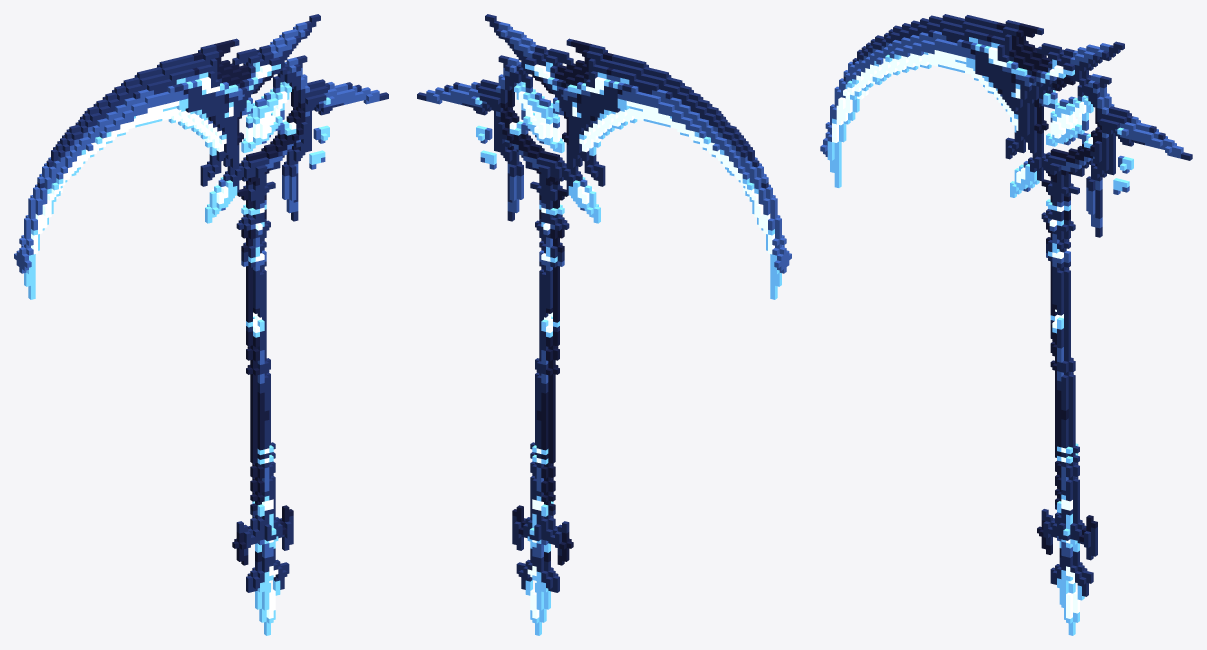
The model's file is voxel_weapon.glb.
The picture shows the model from 3 angles, left to right: view 1: azimuth 30°, elevation 25°; view 2: azimuth 150°, elevation 25°; view 3: azimuth 330°, elevation 25°; orthographic projection.
Visible parts, largest first — view 1: Weapon; view 2: Weapon; view 3: Weapon.
Boxes of the visible parts, x1=… form: Weapon: x1=14, y1=14, x2=388, y2=635; Weapon: x1=417, y1=14, x2=791, y2=635; Weapon: x1=820, y1=14, x2=1192, y2=635.
Size of the model in its own units: 1.22 by 1.92 by 0.105.
Materials: 1 (1 with a texture image).
